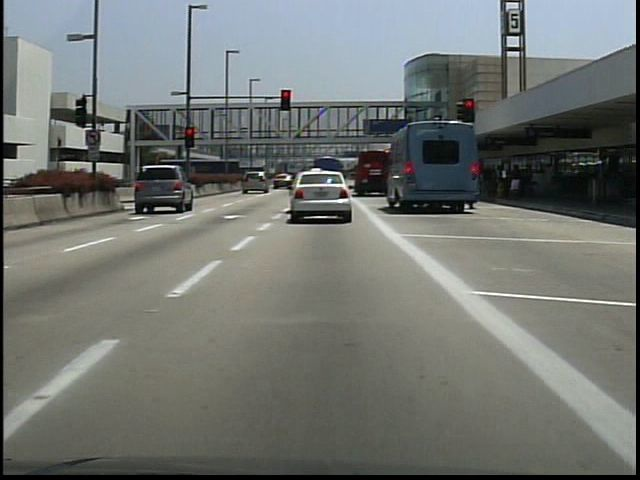person: (507, 161, 523, 203)
